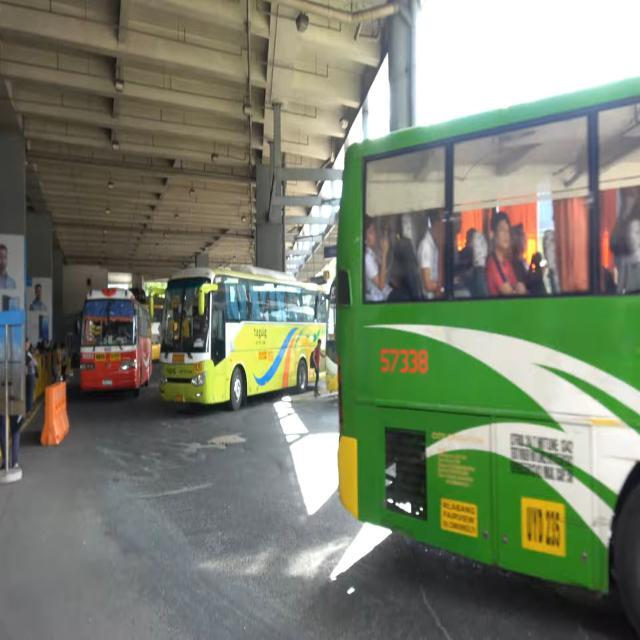bus: (336, 69, 640, 636), (158, 260, 332, 410), (80, 280, 152, 402)
